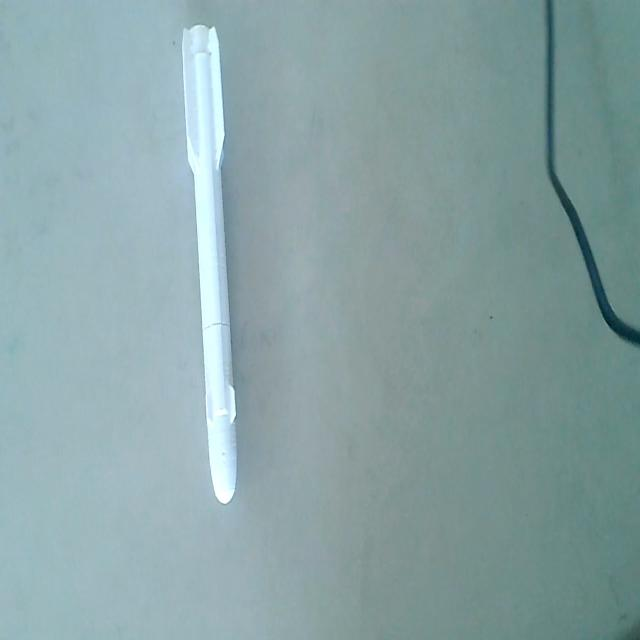Rocket: (181, 19, 241, 505)
